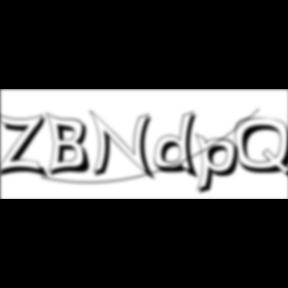B: (46, 111, 96, 179)
N: (89, 109, 159, 183)
Z: (0, 112, 52, 181)
d: (154, 110, 204, 182)
p: (195, 132, 245, 198)
